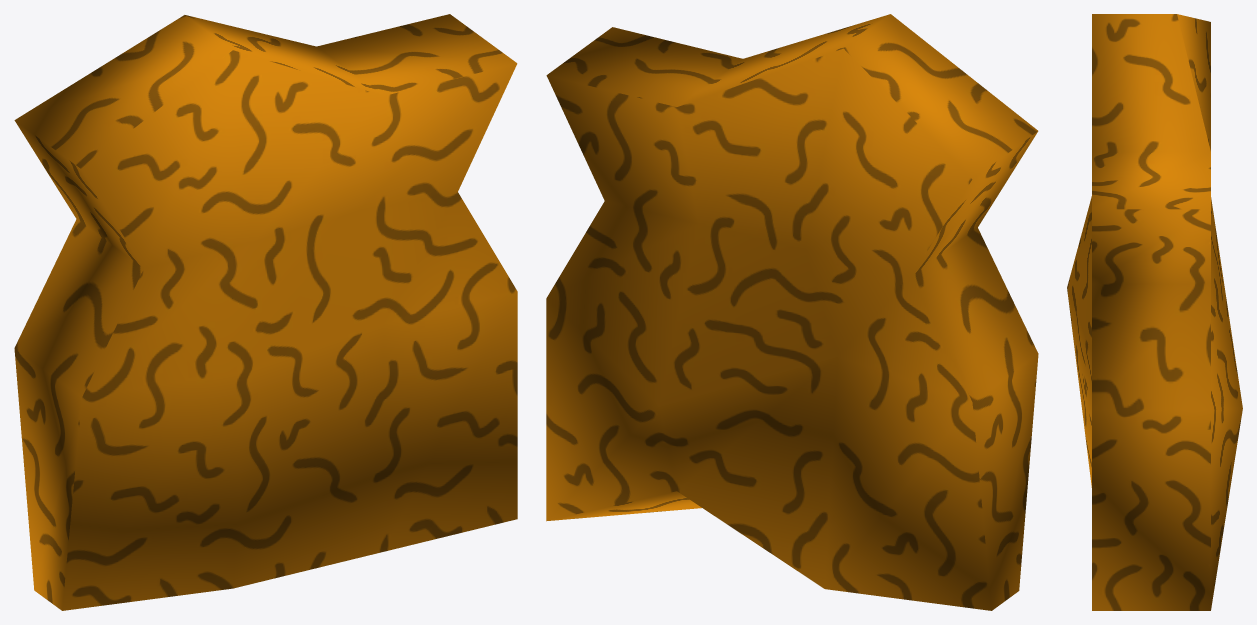
The model's file is item-bark-chip-nugget.glb.
3 renders of one model, left to right at view 1: azimuth 30°, elevation 25°; view 2: azimuth 150°, elevation 25°; view 3: azimuth 270°, elevation 25°, orthographic. The views are drawn at different scales.
Size of the model in its own units: 2 by 2.36 by 0.7938.
Materials: 1 (1 with a texture image).
